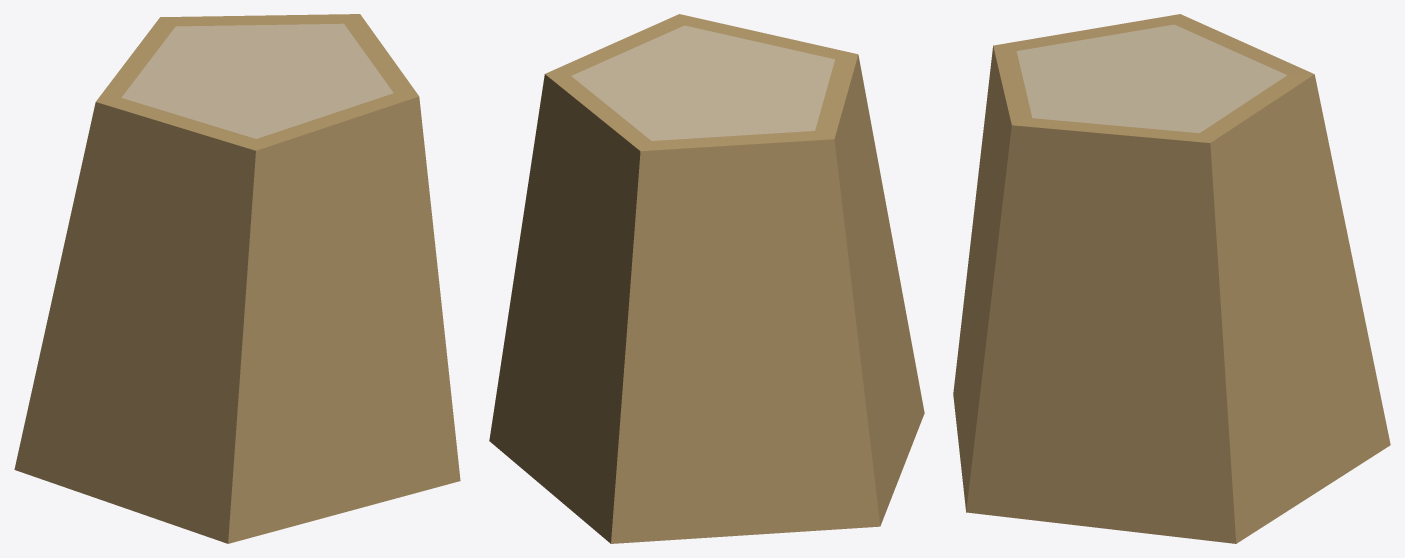
File: Apple_Stump_02.fbx
3 renders of one model, left to right at view 1: azimuth 30°, elevation 25°; view 2: azimuth 150°, elevation 25°; view 3: azimuth 270°, elevation 25°, orthographic. The views are drawn at different scales.
Parts seen in each view (by area): view 1: Apple_Stump_02; view 2: Apple_Stump_02; view 3: Apple_Stump_02.
Boxes of the visible parts, left/top/right/bottom form: Apple_Stump_02: left=14, top=14, right=460, bottom=543; Apple_Stump_02: left=489, top=14, right=924, bottom=543; Apple_Stump_02: left=953, top=14, right=1390, bottom=543.
Size of the model in its own units: 54.47 by 50.33 by 52.62.
